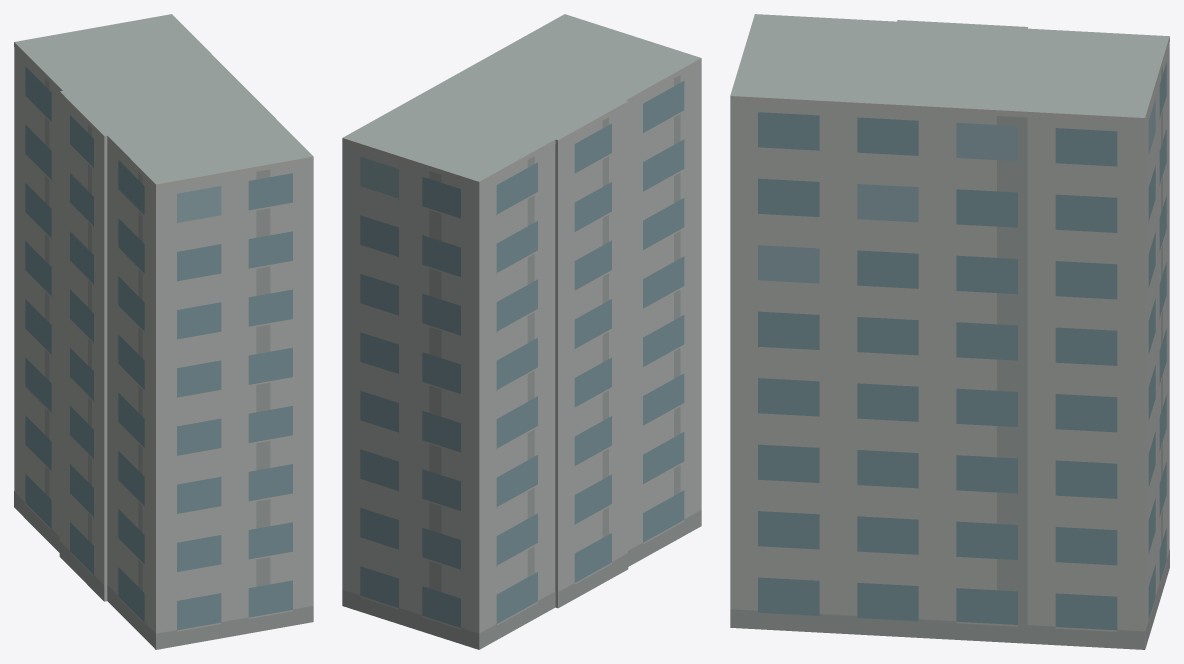
Rendered from survey-upis-32792559.glb.
The picture shows the model from 3 angles, left to right: view 1: azimuth 30°, elevation 25°; view 2: azimuth 150°, elevation 25°; view 3: azimuth 270°, elevation 25°; orthographic projection. The views are drawn at different scales.
Parts seen in each view (by area): view 1: survey-upis-32792559.tmp; view 2: survey-upis-32792559.tmp; view 3: survey-upis-32792559.tmp.
Boxes of the visible parts, <box> form: survey-upis-32792559.tmp: <box>14,14,313,649</box>; survey-upis-32792559.tmp: <box>342,14,701,649</box>; survey-upis-32792559.tmp: <box>730,14,1169,649</box>.
Bounding box in the file's own units: 9.58 × 22.8 × 17.09.
